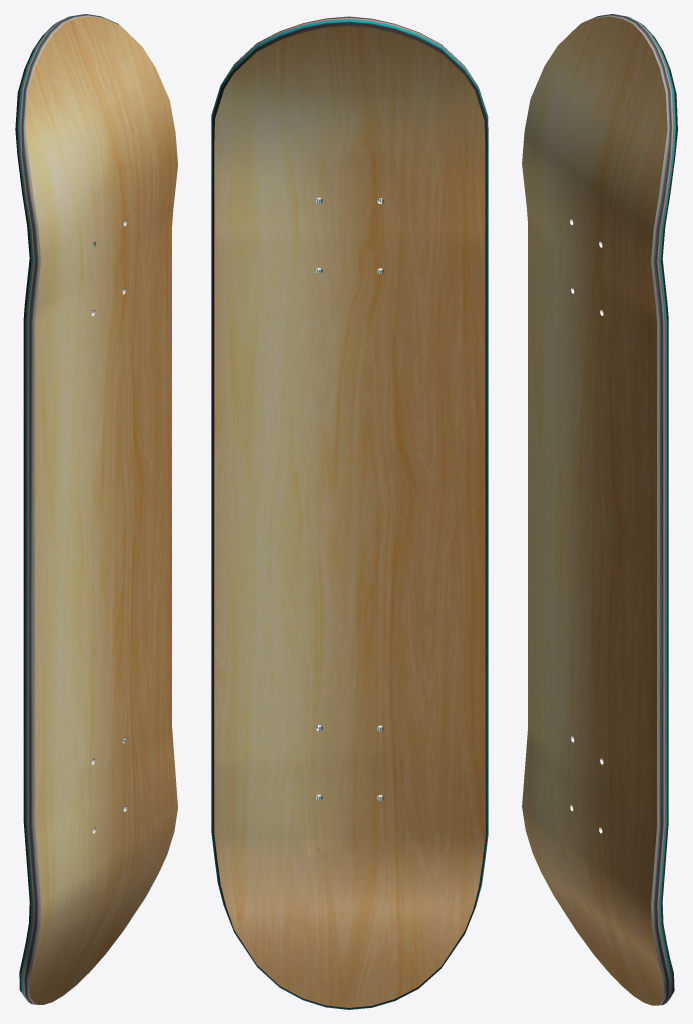
File: deck-meshes-blender.glb
3 renders of one model, left to right at view 1: azimuth 30°, elevation 25°; view 2: azimuth 150°, elevation 25°; view 3: azimuth 270°, elevation 25°, orthographic.
Visible parts, largest first — view 1: stain; view 2: stain; view 3: stain.
Boxes of the visible parts, <box> form: stain: <box>15,14,177,1004</box>; stain: <box>211,16,488,1009</box>; stain: <box>522,14,677,1005</box>.
Bounding box in the file's own units: 0.2758 × 1.21 × 0.1808.
Materials: 5 (5 with a texture image).
